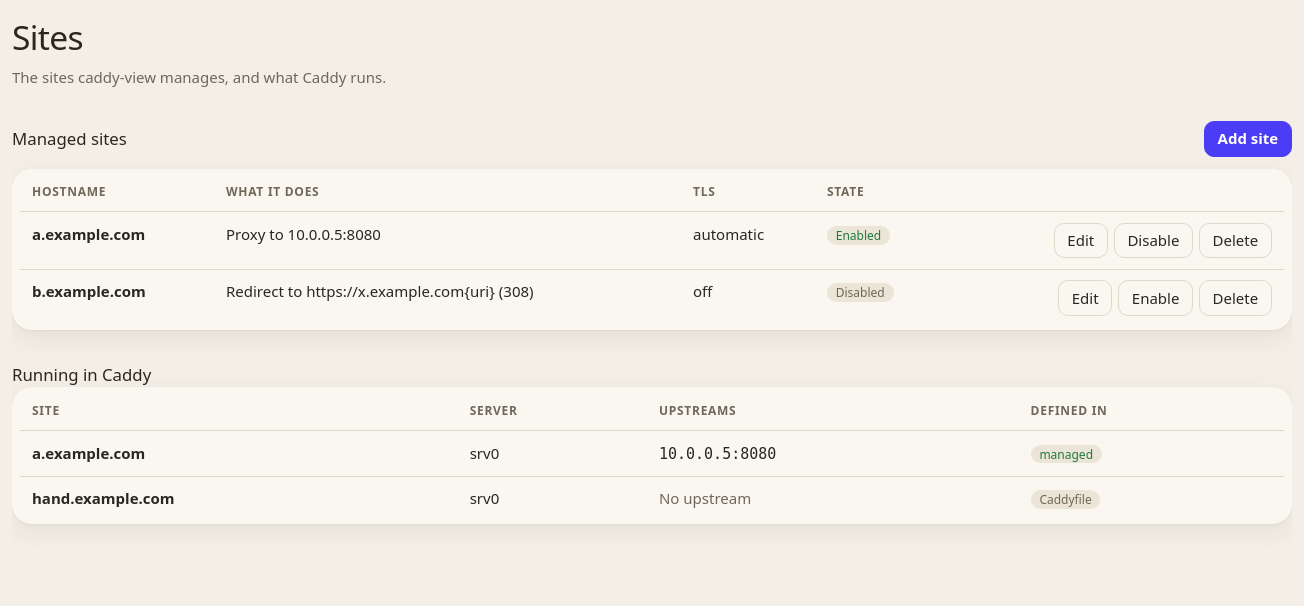
Test: SitesView enabling, disabling and deleting › enables a disabled site, keeping its redirect
expect the heading "Sites" is shown: met, box x1=12 y1=14 x2=83 y2=60
expect the text "b.example.com" is shown: met, box x1=20 y1=269 x2=214 y2=326
Click the button with aria-label "Enable b.example.com".
click(1156, 298)  # box x1=1118 y1=280 x2=1193 y2=316
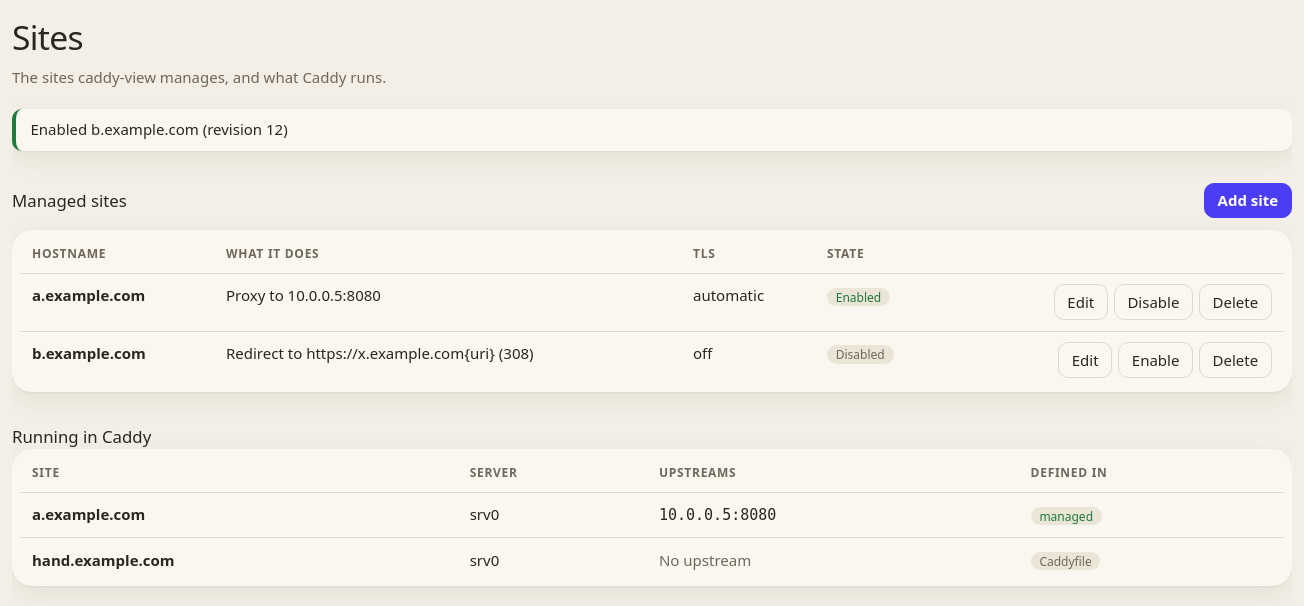
expect the message shows "Enabled b.example.com": met, box x1=30 y1=120 x2=288 y2=140
